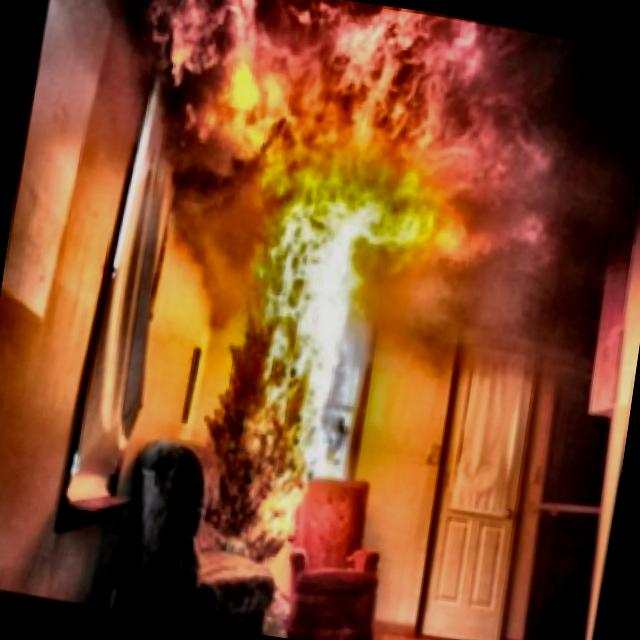fire: (78, 0, 603, 591)
